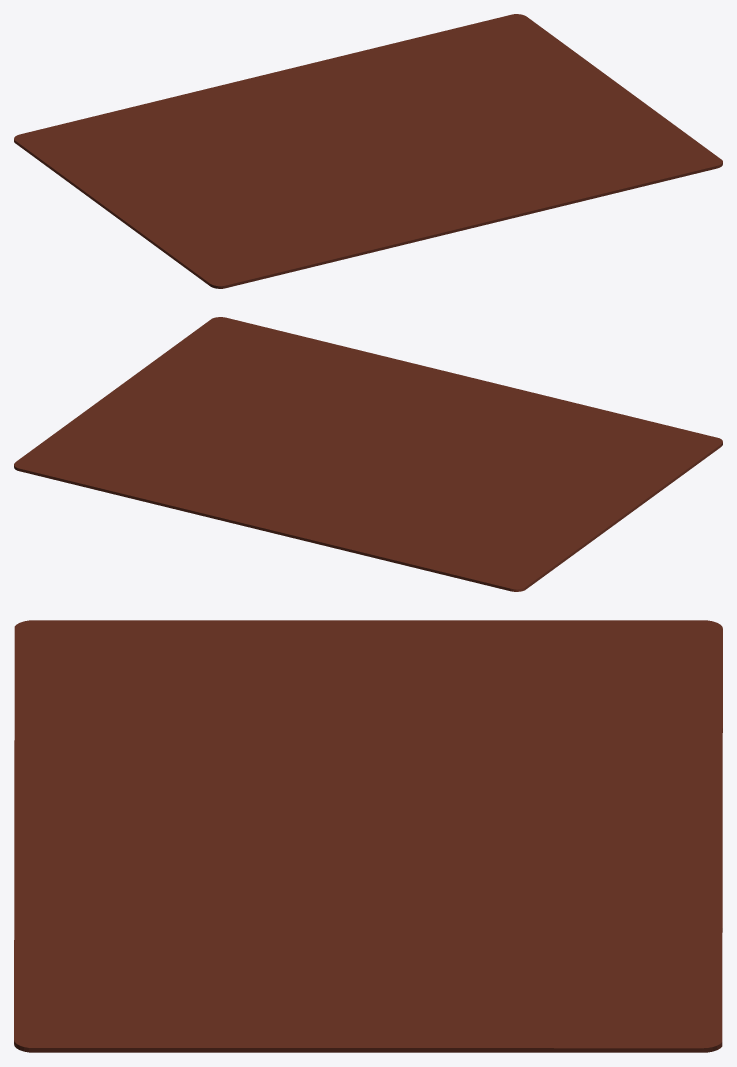
Rendered from rug.glb.
3 views of the same model, one above another, from view 1: azimuth 30°, elevation 25°; view 2: azimuth 150°, elevation 25°; view 3: azimuth 270°, elevation 25° (orthographic). The views are drawn at different scales.
Parts seen in each view (by area): view 1: static:pbr; view 2: static:pbr; view 3: static:pbr.
Part boxes in pixels (left/top/right/bottom): static:pbr: left=14, top=14, right=722, bottom=288; static:pbr: left=14, top=317, right=722, bottom=591; static:pbr: left=14, top=620, right=722, bottom=1052.
Size of the model in its own units: 2 by 0.01 by 1.4.
